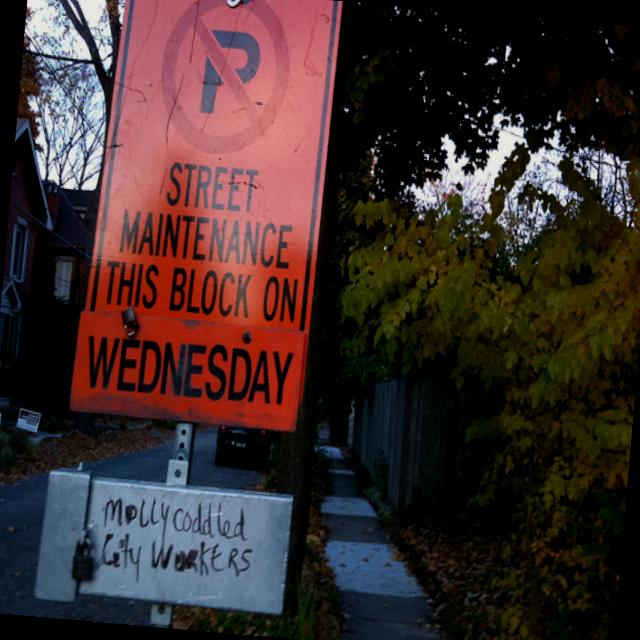Vehicle: (213, 424, 270, 468)
